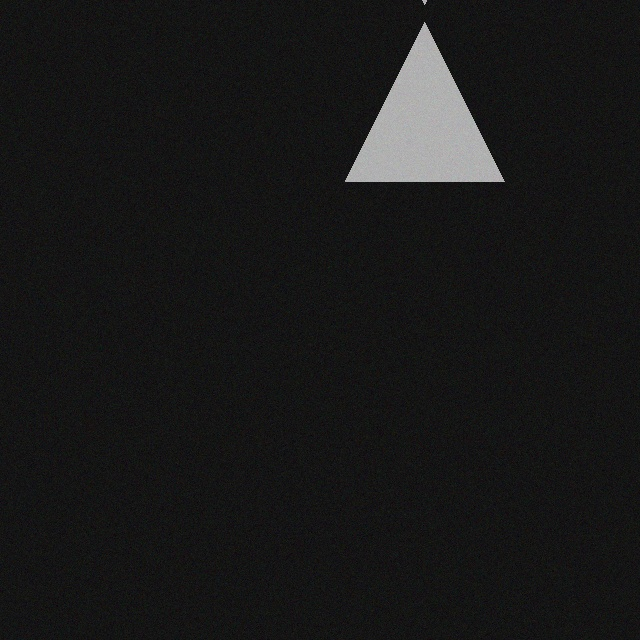triangle: (342, 9, 501, 168)
